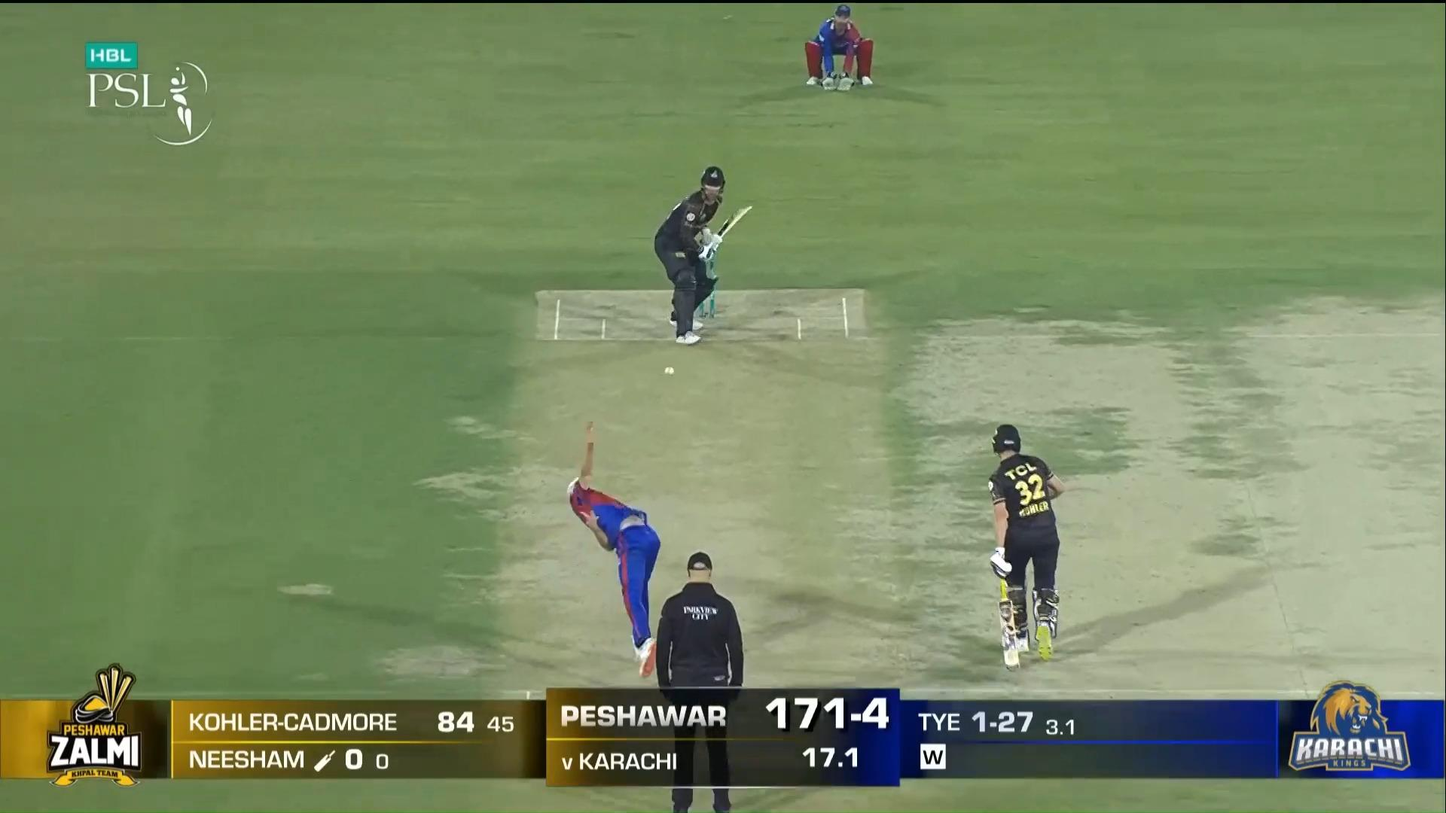batsman: (654, 166, 753, 346)
